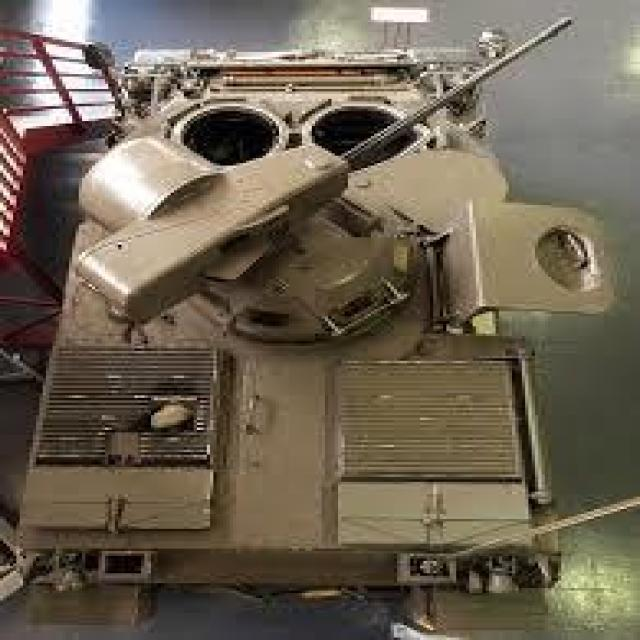Tanks: (41, 38, 569, 594)
